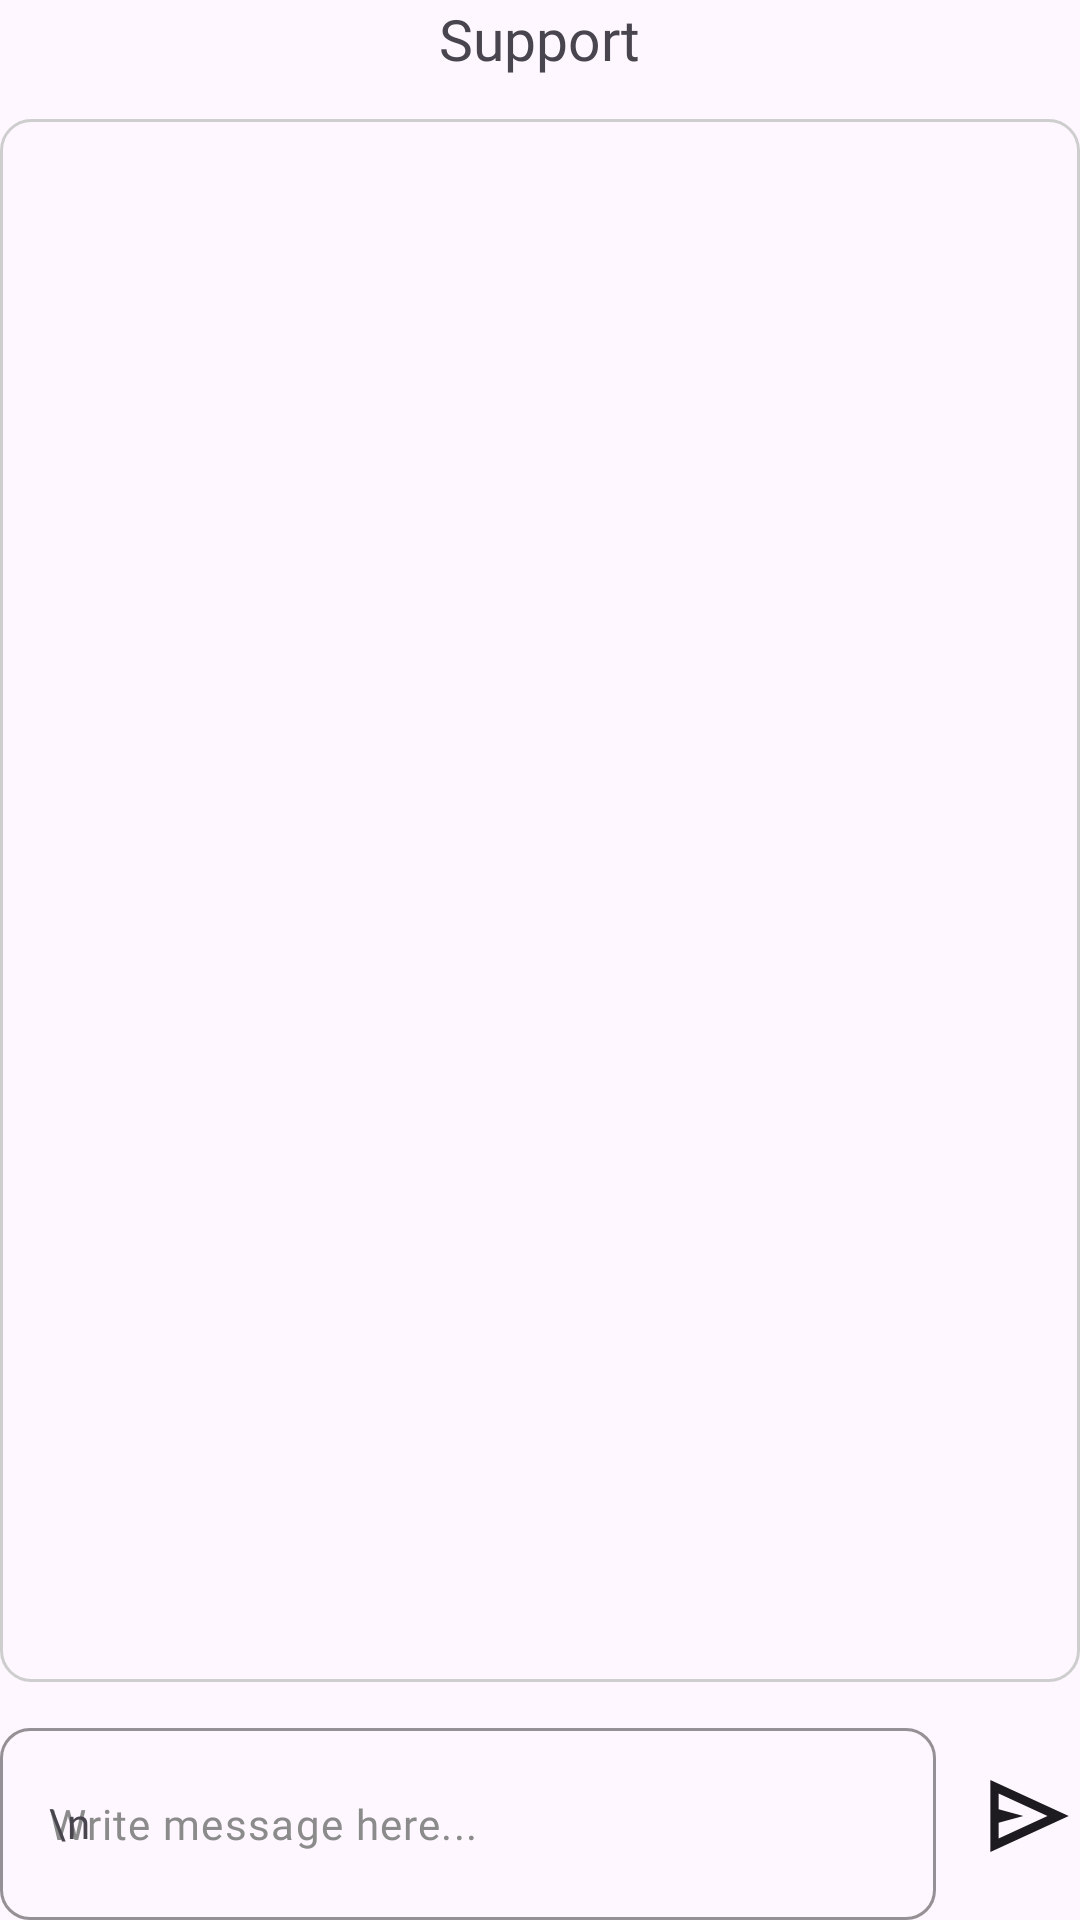

Locate icon controls on the screen. Image size 1080 × 1920, boxes as BBox(x1, y1, x2, y2).
send: BBox(990, 1780, 1069, 1852)
